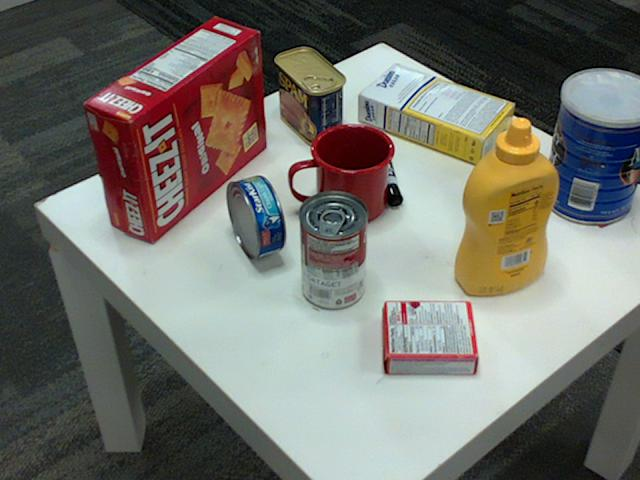cracker_box: (83, 14, 266, 240)
gelatin_box: (380, 301, 478, 376)
large_marker: (371, 138, 401, 205)
master_chef_can: (542, 69, 639, 225)
mug: (290, 121, 395, 223)
mustard_bottle: (453, 118, 559, 294)
potted_meat_can: (272, 48, 344, 146)
sugar_box: (358, 63, 517, 165)
tomato_soup_can: (298, 191, 368, 309)
tuna_fish_can: (227, 175, 285, 260)
